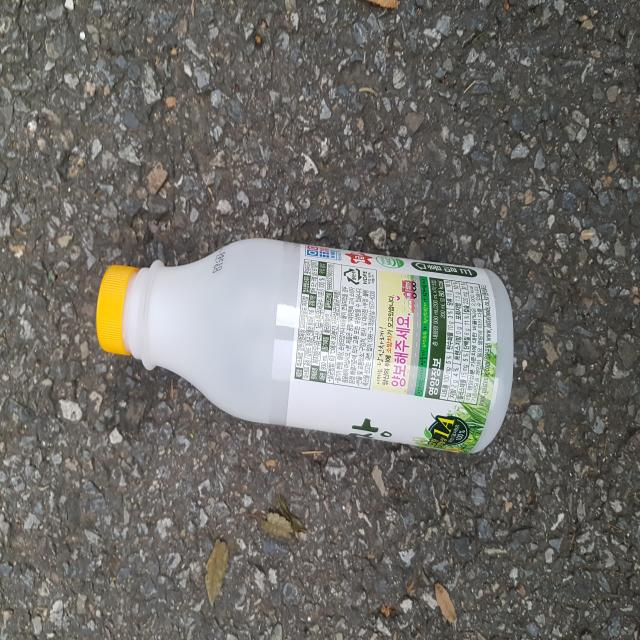bottle: (97, 230, 522, 461)
